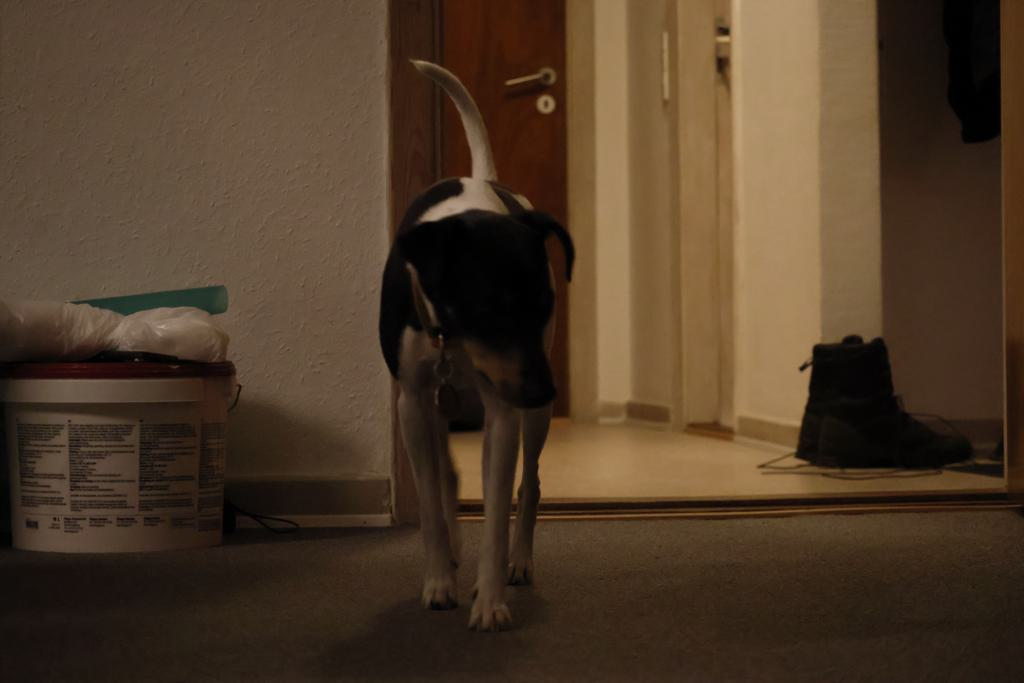Dog: (367, 42, 587, 641)
